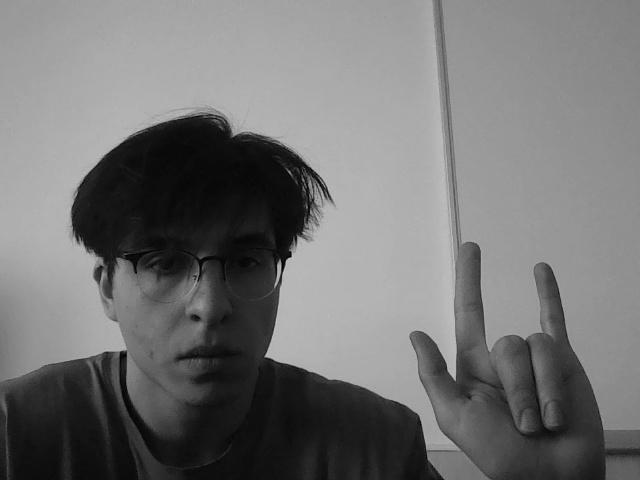I_Love_You: (402, 233, 620, 480), (400, 226, 600, 472), (384, 216, 420, 253), (416, 236, 422, 272)
